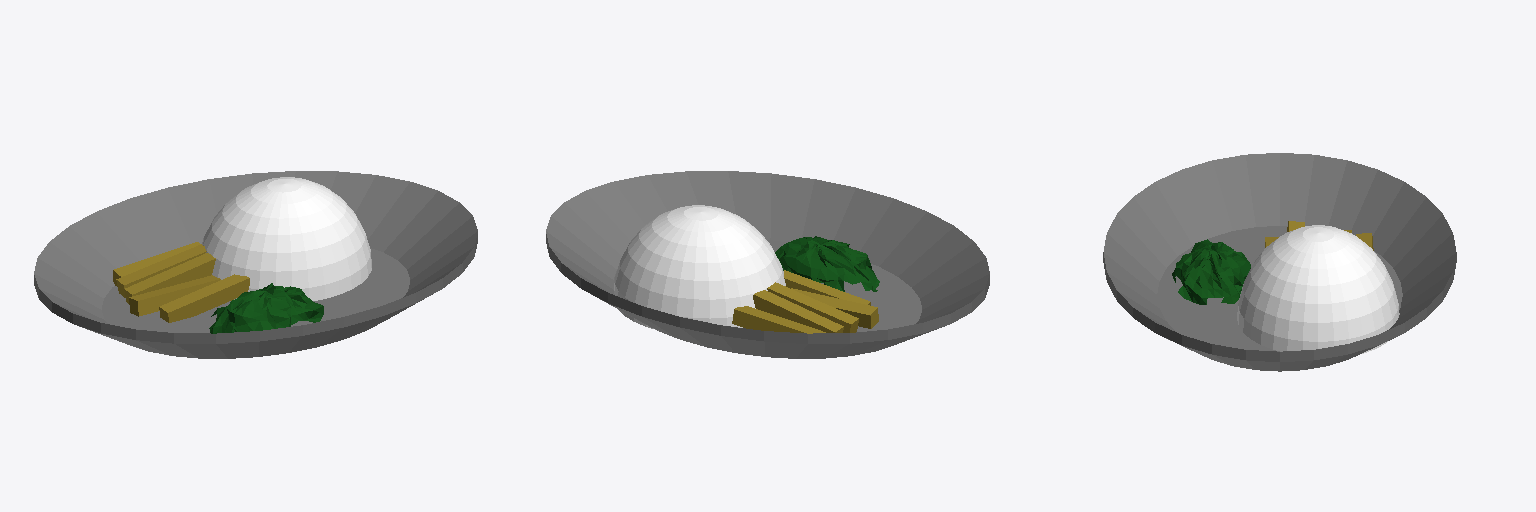
File: rice3_meat2_veg1.obj
3 renders of one model, left to right at view 1: azimuth 30°, elevation 25°; view 2: azimuth 150°, elevation 25°; view 3: azimuth 270°, elevation 25°, orthographic.
Parts seen in each view (by area): view 1: Cylinder, Sphere, Sphere.001, Cube.004_Cube.005, Cube.001_Cube.002, Cube.002_Cube.003, Cube_Cube.001, Cube.003_Cube.004; view 2: Cylinder, Sphere, Sphere.001, Cube_Cube.001, Cube.003_Cube.004, Cube.001_Cube.002, Cube.002_Cube.003, Cube.004_Cube.005; view 3: Cylinder, Sphere, Sphere.001.
Part boxes in pixels (bbox=[...]): Cylinder: bbox=[34, 171, 477, 358]; Sphere: bbox=[202, 177, 371, 300]; Sphere.001: bbox=[209, 283, 323, 333]; Cube.004_Cube.005: bbox=[159, 274, 249, 322]; Cube.001_Cube.002: bbox=[124, 253, 215, 303]; Cube.002_Cube.003: bbox=[129, 275, 220, 316]; Cube_Cube.001: bbox=[116, 244, 206, 297]; Cube.003_Cube.004: bbox=[113, 242, 200, 286]; Cylinder: bbox=[546, 171, 989, 358]; Sphere: bbox=[614, 205, 785, 330]; Sphere.001: bbox=[775, 236, 879, 291]; Cube_Cube.001: bbox=[753, 290, 843, 332]; Cube.003_Cube.004: bbox=[732, 306, 825, 333]; Cube.001_Cube.002: bbox=[767, 282, 858, 332]; Cube.002_Cube.003: bbox=[791, 288, 878, 328]; Cube.004_Cube.005: bbox=[784, 270, 870, 305]; Cylinder: bbox=[1103, 153, 1456, 371]; Sphere: bbox=[1237, 225, 1399, 353]; Sphere.001: bbox=[1172, 239, 1250, 304].
Bounding box in the file's own units: 5.75 × 1.25 × 4.31.